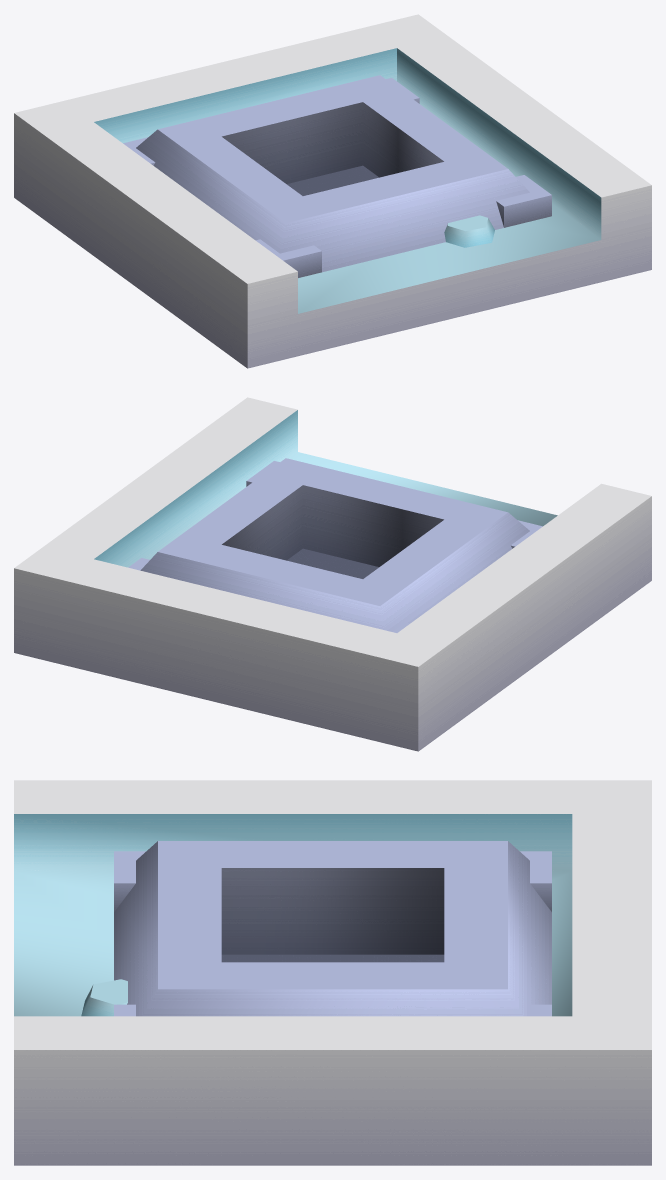
Rendered from tower-defense-kit--snow-tile-spawn-end.glb.
3 renders of one model, top to bottom at view 1: azimuth 30°, elevation 25°; view 2: azimuth 150°, elevation 25°; view 3: azimuth 270°, elevation 25°, orthographic. The views are drawn at different scales.
Parts seen in each view (by area): view 1: snow-tile-spawn-end; view 2: snow-tile-spawn-end; view 3: snow-tile-spawn-end.
Boxes of the visible parts, x1,y1,x2,y2 form: snow-tile-spawn-end: (14,14,651,368); snow-tile-spawn-end: (14,397,651,751); snow-tile-spawn-end: (14,780,651,1165).
Bounding box in the file's own units: 1 × 0.2 × 1.
Materials: 1 (1 with a texture image).
